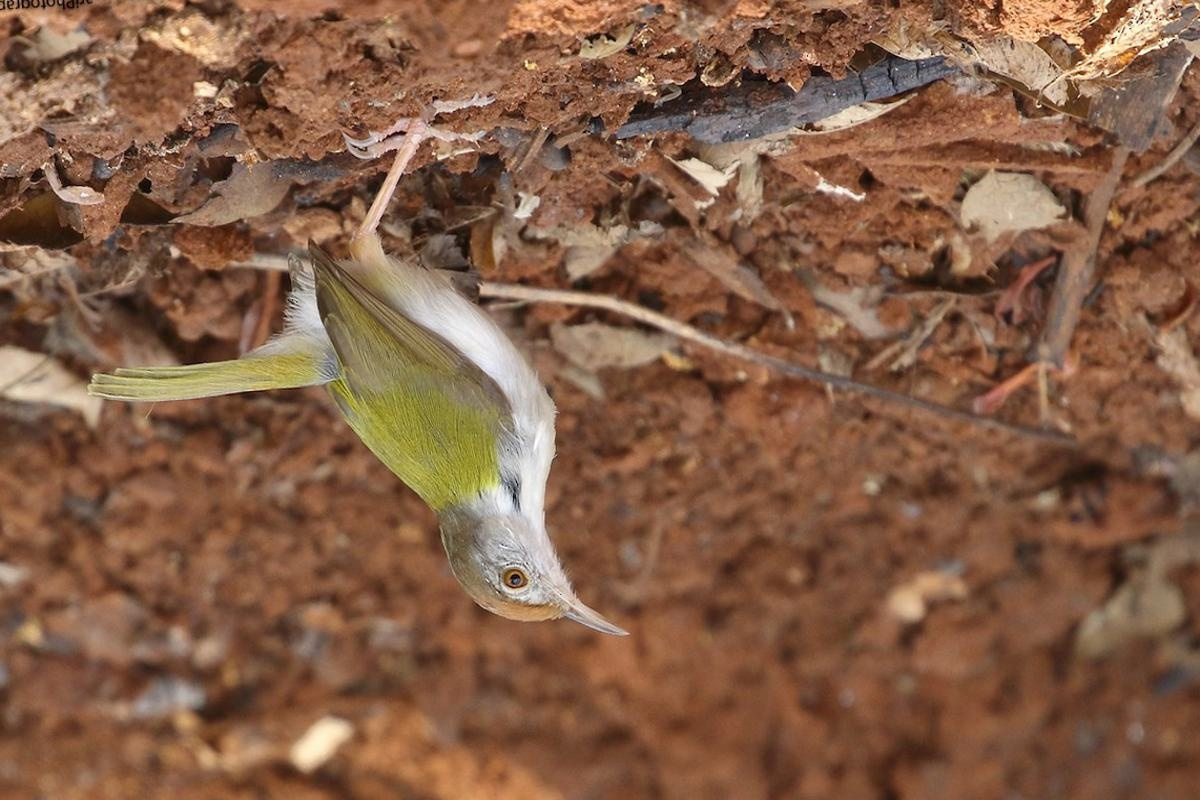tailorbird: (173, 174, 620, 660)
